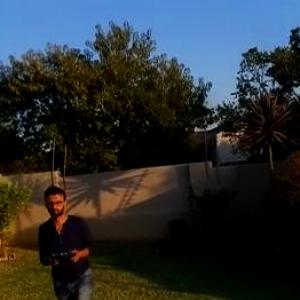follow: (32, 181, 96, 299)
